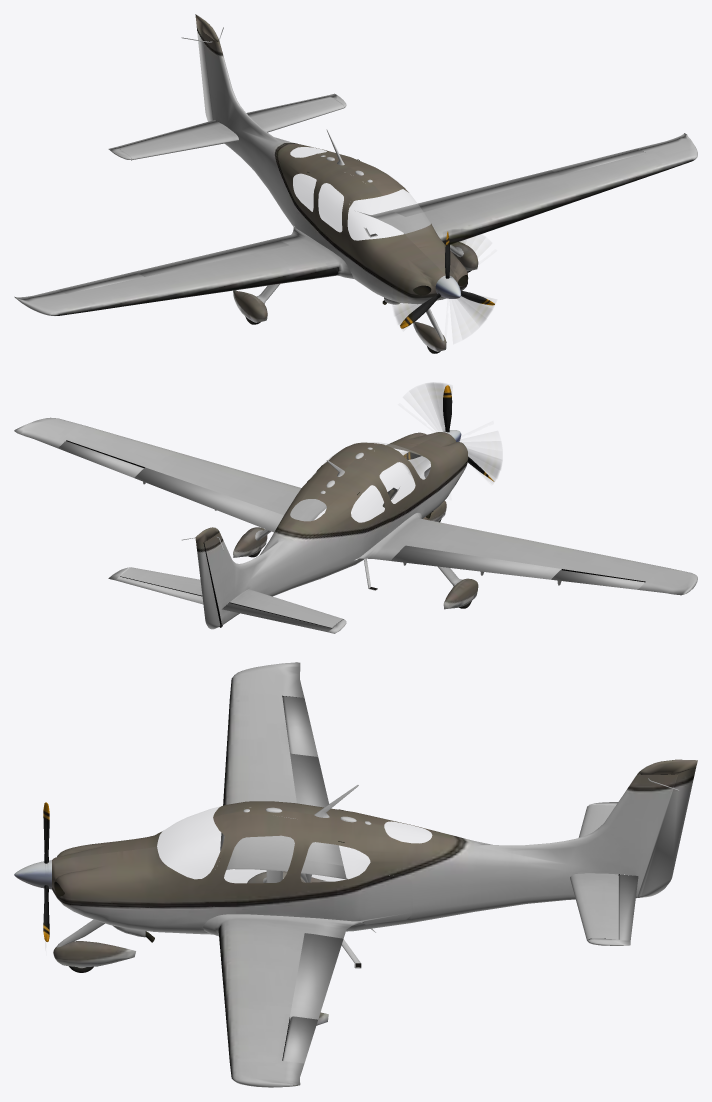
3 views of the same model, one above another, from view 1: azimuth 30°, elevation 25°; view 2: azimuth 150°, elevation 25°; view 3: azimuth 270°, elevation 25° (orthographic). The views are drawn at different scales.
Visible parts, largest first — view 1: voletG, vitres, propdisc, vitreporteG; view 2: voletG, vitres, propdisc, vitreporteG, trous; view 3: voletG, vitres, vitreporteG.
Part boxes in pixels (x1,y1,x2,y2): voletG: (14,14,697,353); vitres: (290,147,442,300); propdisc: (394,229,493,327); vitreporteG: (318,182,399,231); voletG: (14,385,697,633); vitres: (290,442,430,522); propdisc: (404,383,501,480); vitreporteG: (324,455,415,503); trous: (15,429,687,628); voletG: (14,662,697,1087); vitres: (157,806,431,882); vitreporteG: (224,836,294,882).
Bounding box in the file's own units: 11.58 × 2.71 × 7.91.
3 materials, 2 textured.
